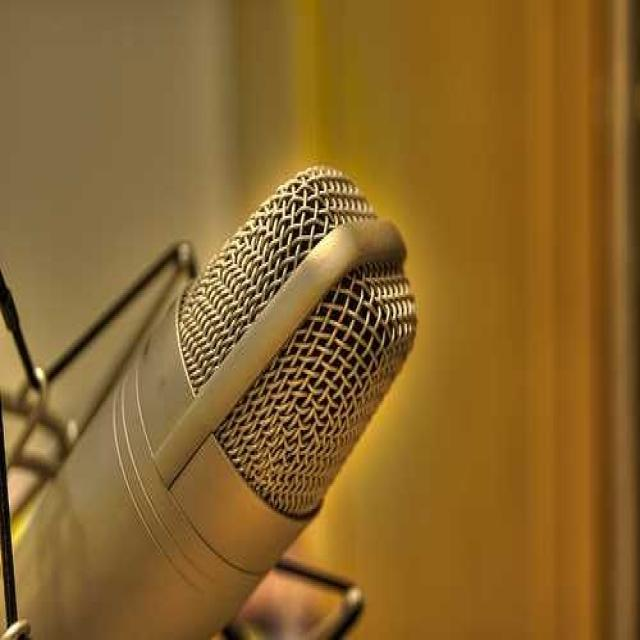microphone: (1, 163, 423, 640)
